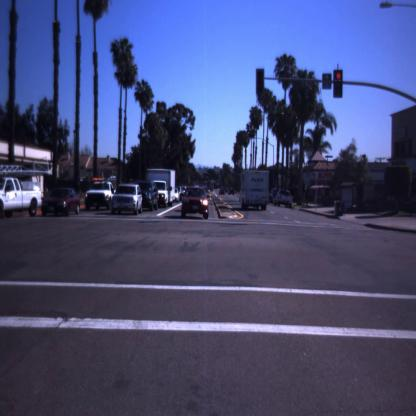trafficlight: (254, 68, 268, 101), (332, 69, 345, 101)
